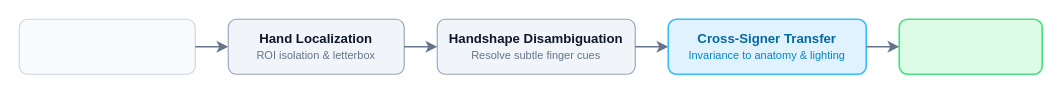
The diagram is 1063 pixels wide and 95 high, and some of its shapes have lost their labels. The centre of each missing label's shape, as x and y in pixels:
"Raw Video Frame Webcam / Mobile capture" goes at point 106,46.
"Real-Time Prediction <15 ms consumer inference" goes at point 970,46.
